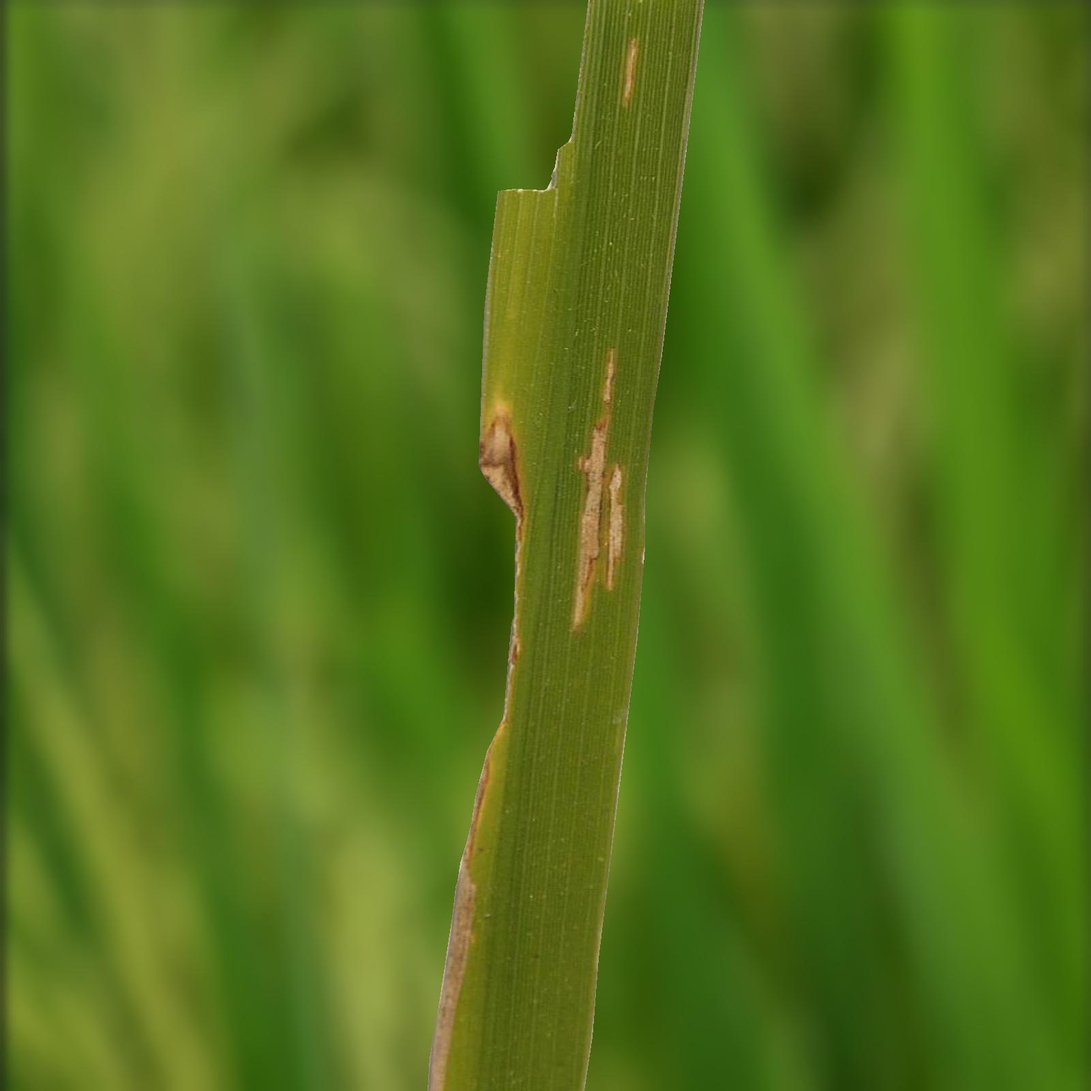BLS: (572, 348, 619, 630), (428, 859, 475, 1090), (606, 465, 624, 589), (474, 744, 492, 808), (464, 805, 481, 872), (623, 38, 639, 104)
LEAF: (428, 0, 704, 1090)
